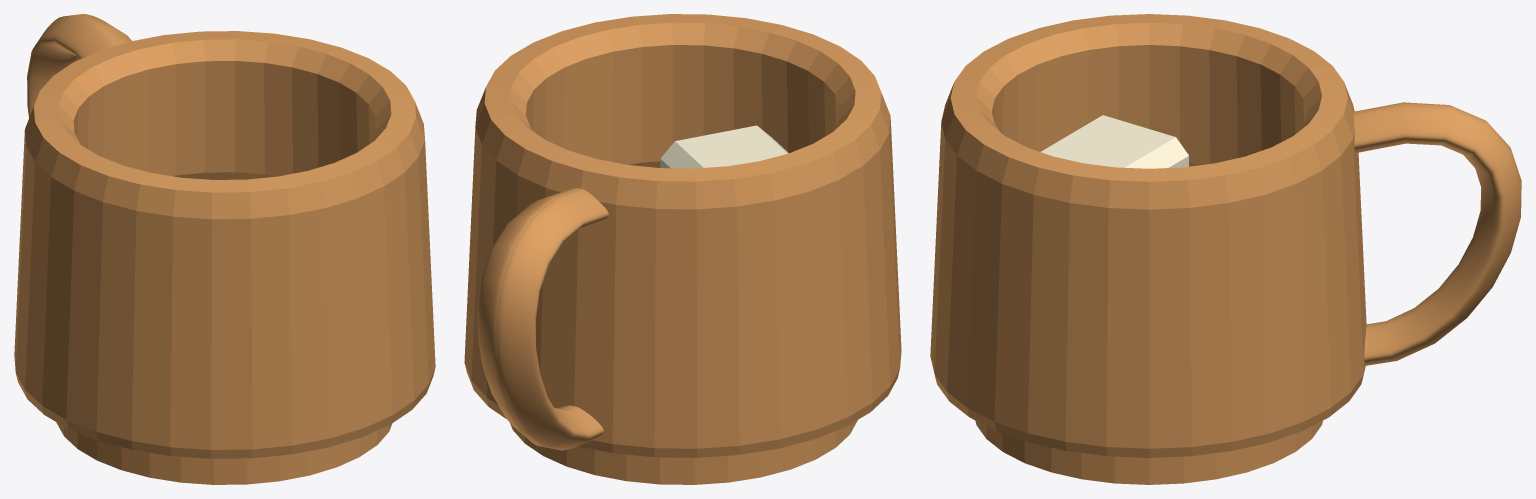
Rendered from mug_02.fbx.
The picture shows the model from 3 angles, left to right: view 1: azimuth 30°, elevation 25°; view 2: azimuth 150°, elevation 25°; view 3: azimuth 270°, elevation 25°; orthographic projection. The views are drawn at different scales.
Parts seen in each view (by area): view 1: Cube.001; view 2: Cube.001; view 3: Cube.001.
Boxes of the visible parts, x1,y1,x2,y2 form: Cube.001: (14,14,435,484); Cube.001: (464,14,901,484); Cube.001: (930,14,1521,484).
Bounding box in the file's own units: 95.39 × 75.69 × 129.
